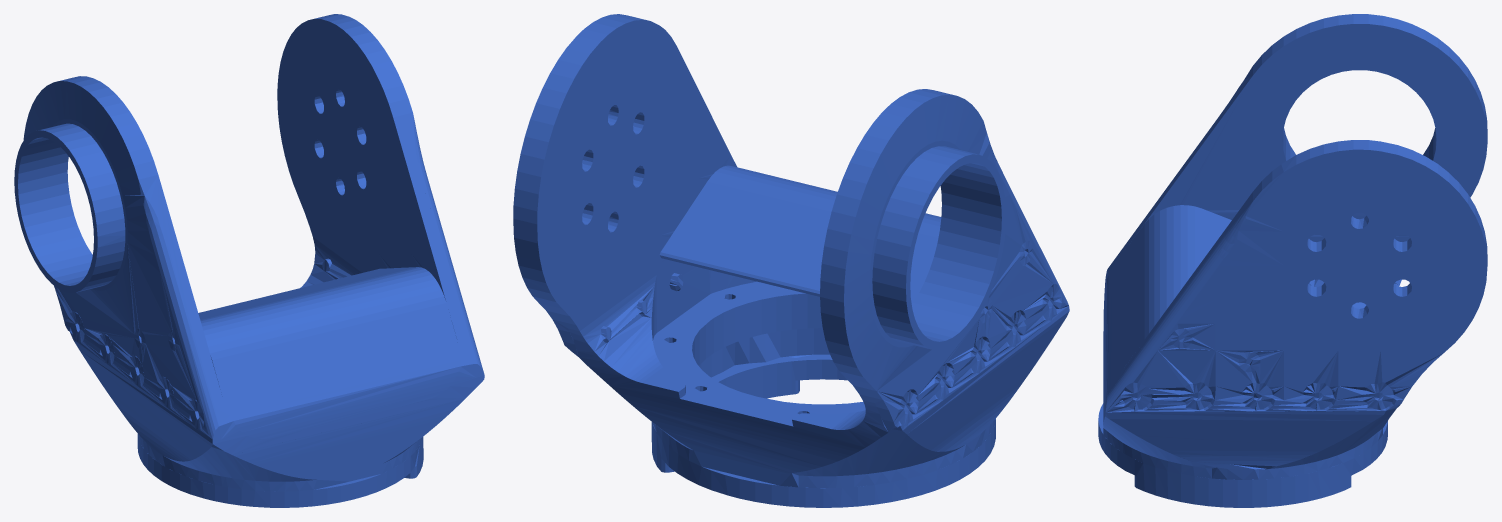
The model's file is A2R3_RT2_shoulderPitch.dae.
The picture shows the model from 3 angles, left to right: view 1: azimuth 30°, elevation 25°; view 2: azimuth 150°, elevation 25°; view 3: azimuth 270°, elevation 25°; orthographic projection. The views are drawn at different scales.
Visible parts, largest first — view 1: A2R3_RT2_shoulderPitch; view 2: A2R3_RT2_shoulderPitch; view 3: A2R3_RT2_shoulderPitch.
Boxes of the visible parts, bbox=[...] form: A2R3_RT2_shoulderPitch: bbox=[14, 14, 484, 507]; A2R3_RT2_shoulderPitch: bbox=[513, 14, 1069, 507]; A2R3_RT2_shoulderPitch: bbox=[1098, 14, 1487, 507].
Size of the model in its own units: 0.0972 by 0.1062 by 0.1098.
